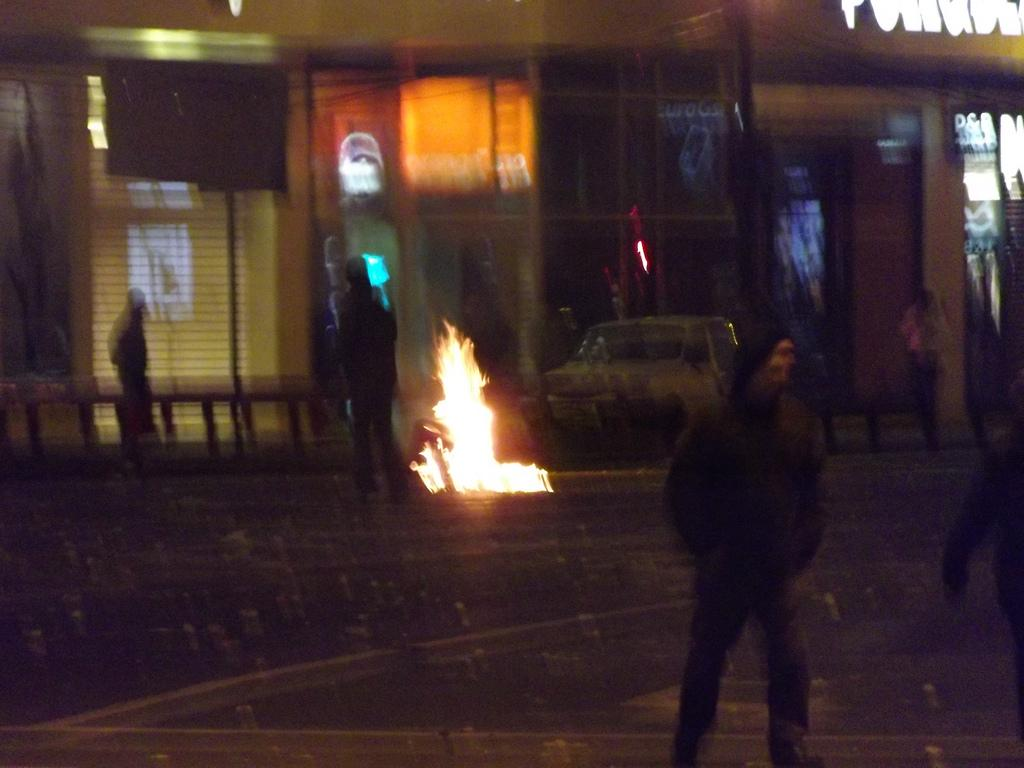fire: (422, 342, 508, 486)
